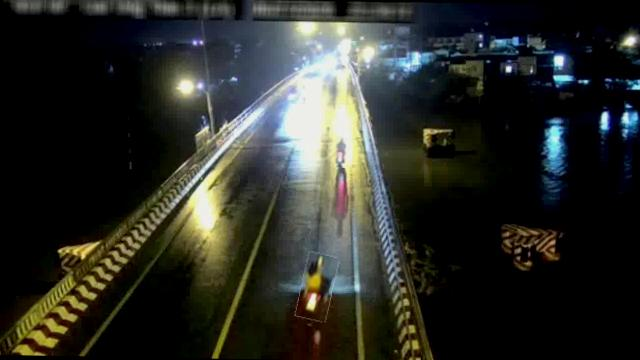Bike: (298, 252, 336, 320), (332, 135, 349, 168)
